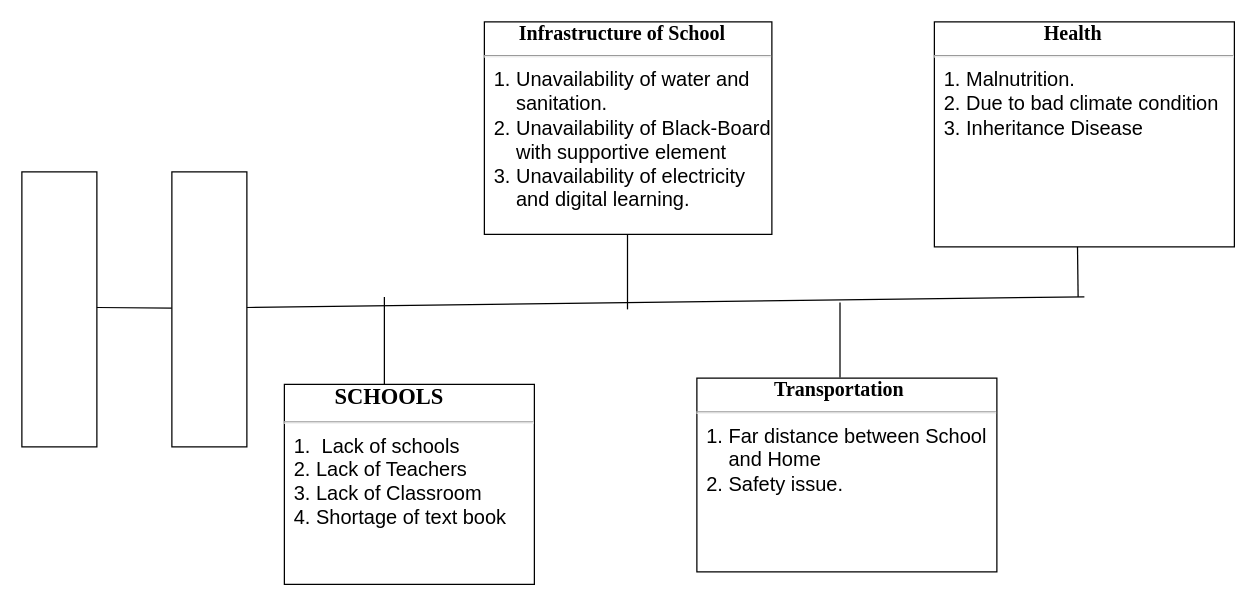
This 1256x606 diagram has some shape labels left out. The centre of each missing label's shape, as x and y in pixels:
"Data Collection" goes at point (209, 309).
"Resources" goes at point (59, 309).
